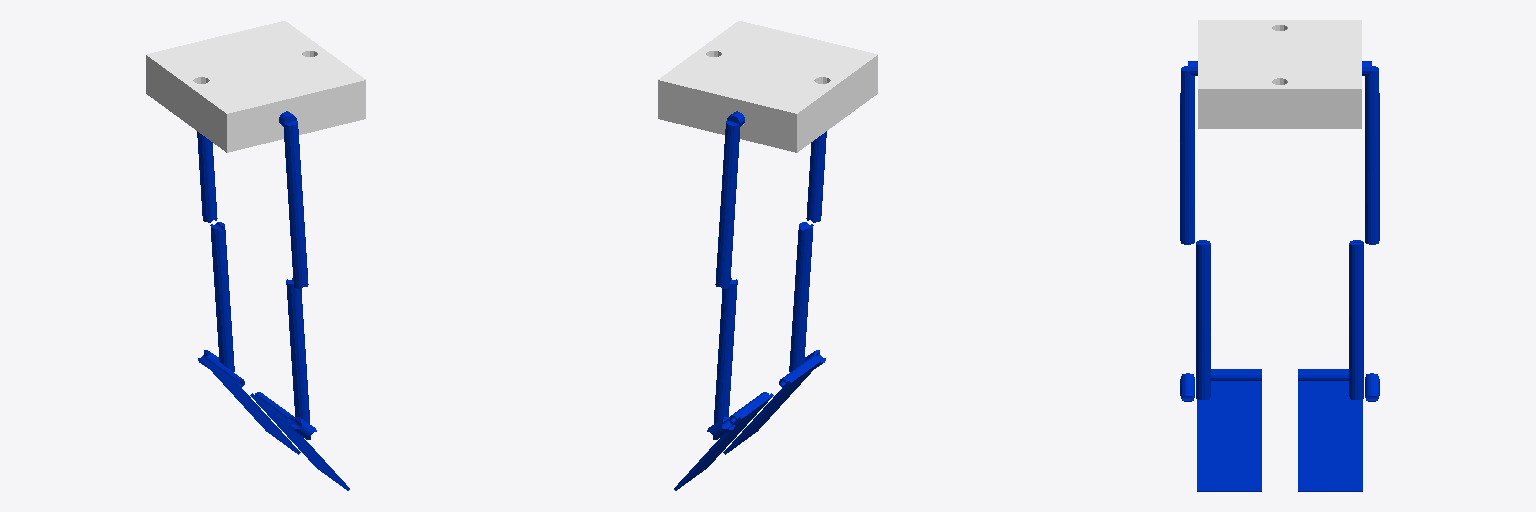
URDF robot description (Utah):
<?xml version="1.0" encoding="utf-8"?>
<!-- This URDF was automatically created by SolidWorks to URDF Exporter! Originally created by [author] ([email redacted]) 
     Commit Version: 1.5.0-0-g9aa0fdb  Build Version: 1.5.7004.21443
     For more information, please see http://wiki.ros.org/sw_urdf_exporter -->
<robot
  name="Utah">
  <link
    name="base_link">
    <inertial>
      <origin
        xyz="0.0012238 -3.2789E-17 0.06596"
        rpy="0 0 0" />
      <mass
        value="244.93" />
      <inertia
        ixx="5.5526"
        ixy="8.9797E-16"
        ixz="-0.00039471"
        iyy="5.4418"
        iyz="-2.9854E-16"
        izz="10.263" />
    </inertial>
    <visual>
      <origin
        xyz="0 0 0"
        rpy="0 0 0" />
      <geometry>
        <mesh
          filename="Utah/meshes/base_link.STL" />
      </geometry>
      <material
        name="">
        <color
          rgba="1 1 1 1" />
      </material>
    </visual>
    <collision>
      <origin
        xyz="0 0 0"
        rpy="0 0 0" />
      <geometry>
        <mesh
          filename="Utah/meshes/base_link.STL" />
      </geometry>
    </collision>
  </link>
  <link
    name="Femur_L">
    <inertial>
      <origin
        xyz="0.24222 1.4908E-08 0.092492"
        rpy="0 0 0" />
      <mass
        value="1.0956" />
      <inertia
        ixx="0.00076595"
        ixy="-3.869E-09"
        ixz="-0.0019943"
        iyy="0.035944"
        iyz="8.4079E-11"
        izz="0.03547" />
    </inertial>
    <visual>
      <origin
        xyz="0 0 0"
        rpy="0 0 0" />
      <geometry>
        <mesh
          filename="Utah/meshes/Femur_L.STL" />
      </geometry>
      <material
        name="">
        <color
          rgba="0.0078431 0.23922 0.82353 1" />
      </material>
    </visual>
    <collision>
      <origin
        xyz="0 0 0"
        rpy="0 0 0" />
      <geometry>
        <mesh
          filename="Utah/meshes/Femur_L.STL" />
      </geometry>
    </collision>
  </link>
  <joint
    name="Hip_femur_L"
    type="continuous">
    <origin
      xyz="-0.0385868696304645 0.18 0.0672852031451373"
      rpy="-1.5707963267949 1.50458688118117 0" />
    <parent
      link="base_link" />
    <child
      link="Femur_L" />
    <axis
      xyz="0 0 1" />
    <safety_controller
      k_velocity="0" />
  </joint>
  <link
    name="Tibia_L">
    <inertial>
      <origin
        xyz="0.261686458965043 2.03621275985735E-05 -0.0699999987788958"
        rpy="0 0 0" />
      <mass
        value="0.837833351696082" />
      <inertia
        ixx="0.000222342286306045"
        ixy="-2.81273101234711E-09"
        ixz="8.62267448386009E-10"
        iyy="0.0175156910950446"
        iyz="2.48769979565589E-11"
        izz="0.0175171715862385" />
    </inertial>
    <visual>
      <origin
        xyz="0 0 0"
        rpy="0 0 0" />
      <geometry>
        <mesh
          filename="Utah/meshes/Tibia_L.STL" />
      </geometry>
      <material
        name="">
        <color
          rgba="0.00784313725490196 0.23921568627451 0.823529411764706 1" />
      </material>
    </visual>
    <collision>
      <origin
        xyz="0 0 0"
        rpy="0 0 0" />
      <geometry>
        <mesh
          filename="Utah/meshes/Tibia_L.STL" />
      </geometry>
    </collision>
  </link>
  <joint
    name="Femur_tibia_L"
    type="continuous">
    <origin
      xyz="0.557999892856502 0 0.12299999982564"
      rpy="0 0 -0.00193315362723463" />
    <parent
      link="Femur_L" />
    <child
      link="Tibia_L" />
    <axis
      xyz="0 0 -1" />
    <safety_controller
      k_velocity="0" />
  </joint>
  <link
    name="Tarsa_L">
    <inertial>
      <origin
        xyz="0.0303788456027158 -0.00774884022545541 0.0700000402077869"
        rpy="0 0 0" />
      <mass
        value="0.101531888424101" />
      <inertia
        ixx="2.83252496698038E-05"
        ixy="7.69618748571048E-11"
        ixz="6.76056031164378E-12"
        iyy="4.67061611076024E-05"
        iyz="6.15662579161058E-12"
        izz="4.96436344707768E-05" />
    </inertial>
    <visual>
      <origin
        xyz="0 0 0"
        rpy="0 0 0" />
      <geometry>
        <mesh
          filename="Utah/meshes/Tarsa_L.STL" />
      </geometry>
      <material
        name="">
        <color
          rgba="0.00784313725490196 0.23921568627451 0.823529411764706 1" />
      </material>
    </visual>
    <collision>
      <origin
        xyz="0 0 0"
        rpy="0 0 0" />
      <geometry>
        <mesh
          filename="Utah/meshes/Tarsa_L.STL" />
      </geometry>
    </collision>
  </link>
  <joint
    name="Tibia_tarsa_L"
    type="continuous">
    <origin
      xyz="0.507066661444129 0 -0.0929999945385969"
      rpy="0 0 2.35013161415813" />
    <parent
      link="Tibia_L" />
    <child
      link="Tarsa_L" />
    <axis
      xyz="0 0 -1" />
    <safety_controller
      k_velocity="0" />
  </joint>
  <link
    name="Foot_L">
    <inertial>
      <origin
        xyz="-0.139297781852569 -0.149551852203243 0.0129063601268122"
        rpy="0 0 0" />
      <mass
        value="0.834771497095712" />
      <inertia
        ixx="0.00280842613282344"
        ixy="-1.8756511067033E-19"
        ixz="0.000168380555992554"
        iyy="0.0109505994990664"
        iyz="-2.16160397721227E-19"
        izz="0.0137073166802144" />
    </inertial>
    <visual>
      <origin
        xyz="0 0 0"
        rpy="0 0 0" />
      <geometry>
        <mesh
          filename="Utah/meshes/Foot_L.STL" />
      </geometry>
      <material
        name="">
        <color
          rgba="0.00784313725490196 0.23921568627451 0.823529411764706 1" />
      </material>
    </visual>
    <collision>
      <origin
        xyz="0 0 0"
        rpy="0 0 0" />
      <geometry>
        <mesh
          filename="Utah/meshes/Foot_L.STL" />
      </geometry>
    </collision>
  </link>
  <joint
    name="Tarsa_foot_L"
    type="continuous">
    <origin
      xyz="0.0546785718556319 -0.00776982069889554 0.0929999850227678"
      rpy="1.5707963267949 0 0.19682225904741" />
    <parent
      link="Tarsa_L" />
    <child
      link="Foot_L" />
    <axis
      xyz="0 1 0" />
    <safety_controller
      k_velocity="0" />
  </joint>
  <link
    name="Femur_R">
    <inertial>
      <origin
        xyz="0.24222 1.1672E-08 -0.092492"
        rpy="0 0 0" />
      <mass
        value="1.0956" />
      <inertia
        ixx="0.00076595"
        ixy="-4.35E-09"
        ixz="0.0019943"
        iyy="0.035944"
        iyz="2.1013E-10"
        izz="0.03547" />
    </inertial>
    <visual>
      <origin
        xyz="0 0 0"
        rpy="0 0 0" />
      <geometry>
        <mesh
          filename="Utah/meshes/Femur_R.STL" />
      </geometry>
      <material
        name="">
        <color
          rgba="0.0078431 0.23922 0.82353 1" />
      </material>
    </visual>
    <collision>
      <origin
        xyz="0 0 0"
        rpy="0 0 0" />
      <geometry>
        <mesh
          filename="Utah/meshes/Femur_R.STL" />
      </geometry>
    </collision>
  </link>
  <joint
    name="Hips_femur_R"
    type="continuous">
    <origin
      xyz="-0.0385868696304645 -0.18 0.0672852031451373"
      rpy="-1.5707963267949 1.50458688118117 0" />
    <parent
      link="base_link" />
    <child
      link="Femur_R" />
    <axis
      xyz="0 0 1" />
    <safety_controller
      k_velocity="0" />
  </joint>
  <link
    name="Tibia_R">
    <inertial>
      <origin
        xyz="0.261686463993566 2.03487176930958E-05 0.0239999993678786"
        rpy="0 0 0" />
      <mass
        value="0.837833381982962" />
      <inertia
        ixx="0.00022234224194448"
        ixy="-5.76205918741506E-10"
        ixz="-9.63047134359076E-10"
        iyy="0.0175156917402663"
        iyz="5.66522609996479E-11"
        izz="0.0175171721226335" />
    </inertial>
    <visual>
      <origin
        xyz="0 0 0"
        rpy="0 0 0" />
      <geometry>
        <mesh
          filename="Utah/meshes/Tibia_R.STL" />
      </geometry>
      <material
        name="">
        <color
          rgba="0.00784313725490196 0.23921568627451 0.823529411764706 1" />
      </material>
    </visual>
    <collision>
      <origin
        xyz="0 0 0"
        rpy="0 0 0" />
      <geometry>
        <mesh
          filename="Utah/meshes/Tibia_R.STL" />
      </geometry>
    </collision>
  </link>
  <joint
    name="Femur_tibia_R"
    type="continuous">
    <origin
      xyz="0.557999892856502 0 -0.0770000001743605"
      rpy="0 0 -0.00193315362723463" />
    <parent
      link="Femur_R" />
    <child
      link="Tibia_R" />
    <axis
      xyz="0 0 1" />
    <safety_controller
      k_velocity="0" />
  </joint>
  <link
    name="Tarsa_R">
    <inertial>
      <origin
        xyz="0.030379 -0.0077488 -0.07"
        rpy="0 0 0" />
      <mass
        value="0.10153" />
      <inertia
        ixx="2.8325E-05"
        ixy="7.6962E-11"
        ixz="-6.7606E-12"
        iyy="4.6706E-05"
        iyz="-6.1566E-12"
        izz="4.9644E-05" />
    </inertial>
    <visual>
      <origin
        xyz="0 0 0"
        rpy="0 0 0" />
      <geometry>
        <mesh
          filename="Utah/meshes/Tarsa_R.STL" />
      </geometry>
      <material
        name="">
        <color
          rgba="0.0078431 0.23922 0.82353 1" />
      </material>
    </visual>
    <collision>
      <origin
        xyz="0 0 0"
        rpy="0 0 0" />
      <geometry>
        <mesh
          filename="Utah/meshes/Tarsa_R.STL" />
      </geometry>
    </collision>
  </link>
  <joint
    name="Tibia_tarsa_R"
    type="continuous">
    <origin
      xyz="0.507066661444129 0 0.0469999948873179"
      rpy="0 0 2.35013161415813" />
    <parent
      link="Tibia_R" />
    <child
      link="Tarsa_R" />
    <axis
      xyz="0 0 1" />
    <safety_controller
      k_velocity="0" />
  </joint>
  <link
    name="Foot_R">
    <inertial>
      <origin
        xyz="-0.1393 -0.14955 -0.012906"
        rpy="0 0 0" />
      <mass
        value="0.83477" />
      <inertia
        ixx="0.0028084"
        ixy="1.0632E-18"
        ixz="-0.00016838"
        iyy="0.010951"
        iyz="-1.5514E-19"
        izz="0.013707" />
    </inertial>
    <visual>
      <origin
        xyz="0 0 0"
        rpy="0 0 0" />
      <geometry>
        <mesh
          filename="Utah/meshes/Foot_R.STL" />
      </geometry>
      <material
        name="">
        <color
          rgba="0.0078431 0.23922 0.82353 1" />
      </material>
    </visual>
    <collision>
      <origin
        xyz="0 0 0"
        rpy="0 0 0" />
      <geometry>
        <mesh
          filename="Utah/meshes/Foot_R.STL" />
      </geometry>
    </collision>
  </link>
  <joint
    name="Tarsa_foot_R"
    type="continuous">
    <origin
      xyz="0.054678571855632 -0.00776982069889554 -0.0929999850227678"
      rpy="-1.5707963267949 0 0.19682225904741" />
    <parent
      link="Tarsa_R" />
    <child
      link="Foot_R" />
    <axis
      xyz="0 1 0" />
    <safety_controller
      k_velocity="0" />
  </joint>
</robot>

--- What the picture shows (computed from the rendered views, not written in the file) ---
Views: 3 orthographic renders of the robot side by side, from view 1: azimuth 30°, elevation 25°; view 2: azimuth 150°, elevation 25°; view 3: azimuth 270°, elevation 25°.
Robot: Utah — 9 links, 8 joints (8 continuous); root link base_link; default pose: every joint at zero.
Visible links, largest first — view 1: base_link, Femur_R, Tibia_L, Tibia_R, Foot_L, Foot_R, Femur_L; view 2: base_link, Femur_L, Tibia_R, Tibia_L, Foot_R, Foot_L, Femur_R; view 3: base_link, Foot_L, Foot_R, Femur_L, Femur_R, Tibia_L, Tibia_R.
Link boxes in pixels (<box>): base_link: <box>146,21,365,152</box>; Femur_R: <box>279,111,308,288</box>; Tibia_L: <box>210,222,234,371</box>; Tibia_R: <box>286,278,309,423</box>; Foot_L: <box>201,355,300,454</box>; Foot_R: <box>250,392,349,490</box>; Femur_L: <box>197,131,217,222</box>; base_link: <box>658,21,877,152</box>; Femur_L: <box>715,111,744,288</box>; Tibia_R: <box>789,222,813,371</box>; Tibia_L: <box>714,278,737,423</box>; Foot_R: <box>723,355,822,454</box>; Foot_L: <box>674,392,773,490</box>; Femur_R: <box>806,131,826,222</box>; base_link: <box>1198,20,1361,128</box>; Foot_L: <box>1298,369,1362,491</box>; Foot_R: <box>1197,369,1261,491</box>; Femur_L: <box>1362,61,1379,244</box>; Femur_R: <box>1180,61,1197,244</box>; Tibia_L: <box>1349,240,1363,399</box>; Tibia_R: <box>1196,240,1210,399</box>.
Bounding box of the posed robot: 0.495 × 0.606 × 1.38 m (x, y, z).
Meshes: 9 distinct files referenced, 9 mesh visuals loaded (9 binary STL).